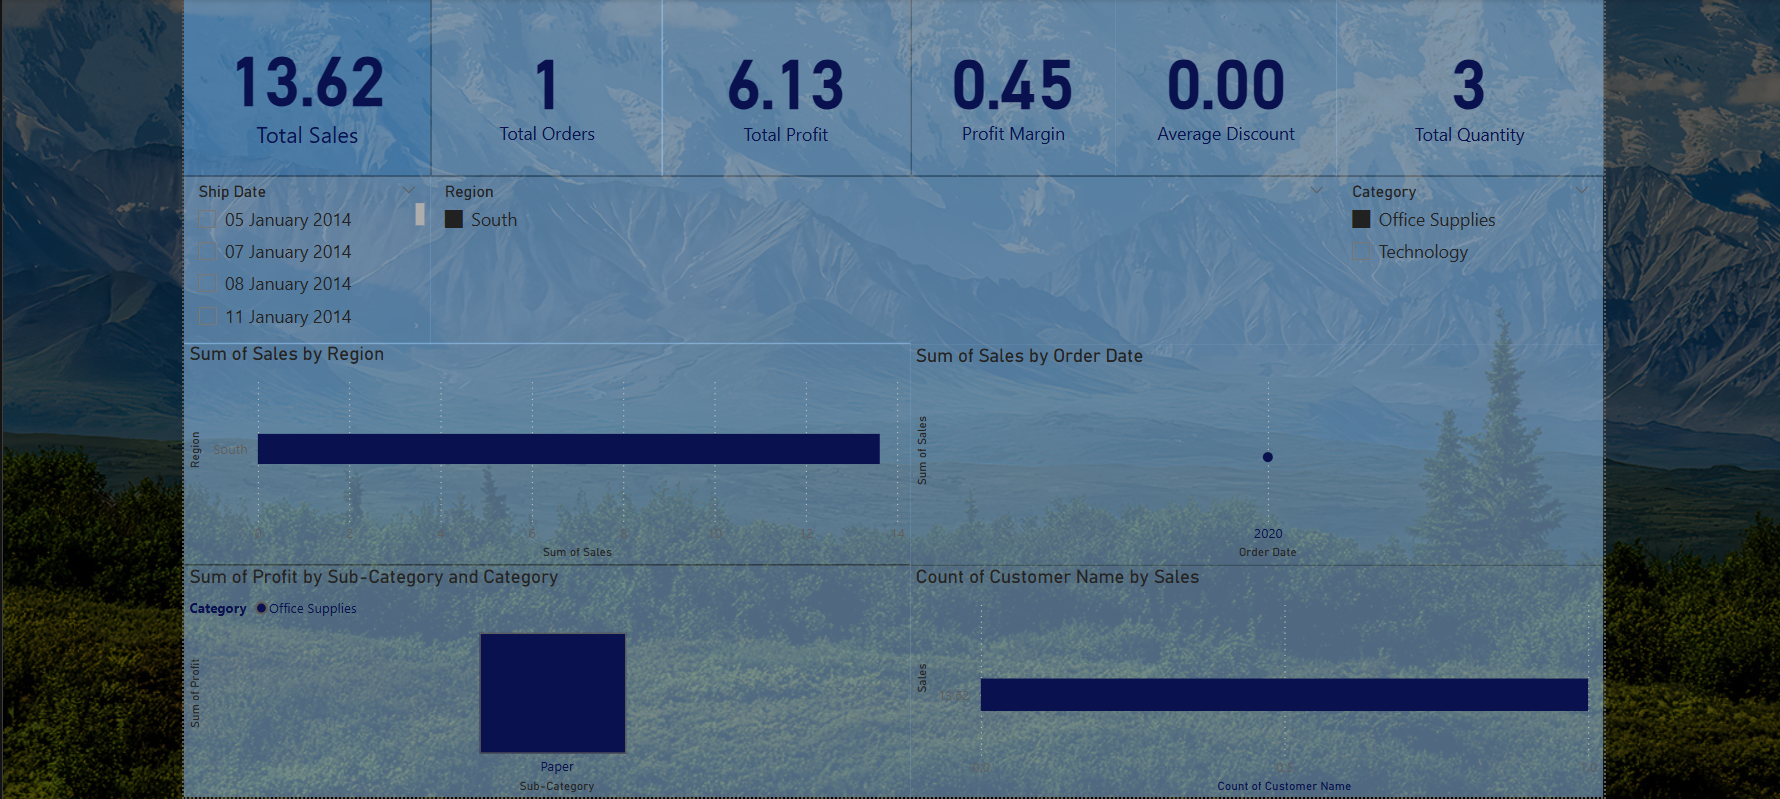

This screenshot's page, from the dashboard's own definition file:
{"tool":"powerbi","page":{"name":"Page 1","canvas":[1280,720],"ordinal":0},"visuals":[{"type":"card","fields":{"Values":["Sample - Superstore.Total Sales"]},"box":[0,0,222.7,159.2],"z":0},{"type":"card","fields":{"Values":["Sample - Superstore.Total Profit"]},"box":[430.7,0,224.5,159.5],"z":1000},{"type":"card","fields":{"Values":["Sample - Superstore.Total Quantity"]},"box":[1039.3,0,240.5,159.5],"z":2000},{"type":"card","fields":{"Values":["Sample - Superstore.Total Orders"]},"box":[222.7,0,209,159.2],"z":3000},{"type":"card","fields":{"Values":["Sample - Superstore.Profit Margin"]},"box":[655.6,0,184.1,159.2],"z":4000},{"type":"card","fields":{"Values":["Sample - Superstore.Average Discount"]},"box":[839.7,0,200.3,159.2],"z":5000},{"type":"clusteredBarChart","fields":{"Category":["Sample - Superstore.Region"],"Y":["Sum(Sample - Superstore.Sales)"]},"box":[0,310.4,655.2,200],"z":6000},{"type":"hundredPercentStackedColumnChart","fields":{"Category":["Sample - Superstore.Sub-Category"],"Y":["Sum(Sample - Superstore.Profit)"],"Series":["Sample - Superstore.Category"]},"box":[0,510.4,655.2,209.8],"z":7000},{"type":"lineChart","fields":{"Category":["Sample - Superstore.Order Date"],"Y":["Sum(Sample - Superstore.Sales)"]},"box":[654.3,311,624.5,199],"z":8000},{"type":"barChart","fields":{"Y":["CountNonNull(Sample - Superstore.Customer Name)"],"Category":["Sample - Superstore.Sales"]},"box":[654.3,510,624.5,210.2],"z":9000},{"type":"slicer","fields":{"Values":["Sample - Superstore.Category"]},"box":[1040.5,159.5,239.3,150.9],"z":10000},{"type":"slicer","fields":{"Values":["Sample - Superstore.Ship Date"]},"box":[0,159.5,222.1,150.9],"z":11000},{"type":"slicer","fields":{"Values":["Sample - Superstore.Region"]},"box":[222.1,159.5,818.4,150.9],"z":12000}]}

Visuals, with their boxes on the page's 1280x720 design canvas (x1, y1, x2, y2). These are canvas units, not pixel positions in the 1780x799 screenshot, which may show the page scaled, cropped or inside an application window:
card - Sample - Superstore.Total Sales: [0,0,223,159]
card - Sample - Superstore.Total Profit: [431,0,655,160]
card - Sample - Superstore.Total Quantity: [1039,0,1280,160]
card - Sample - Superstore.Total Orders: [223,0,432,159]
card - Sample - Superstore.Profit Margin: [656,0,840,159]
card - Sample - Superstore.Average Discount: [840,0,1040,159]
clusteredBarChart - Sample - Superstore.Region x Sum(Sample - Superstore.Sales): [0,310,655,510]
hundredPercentStackedColumnChart - Sample - Superstore.Sub-Category x Sum(Sample - Superstore.Profit): [0,510,655,720]
lineChart - Sample - Superstore.Order Date x Sum(Sample - Superstore.Sales): [654,311,1279,510]
barChart - CountNonNull(Sample - Superstore.Customer Name) x Sample - Superstore.Sales: [654,510,1279,720]
slicer - Sample - Superstore.Category: [1040,160,1280,310]
slicer - Sample - Superstore.Ship Date: [0,160,222,310]
slicer - Sample - Superstore.Region: [222,160,1040,310]
